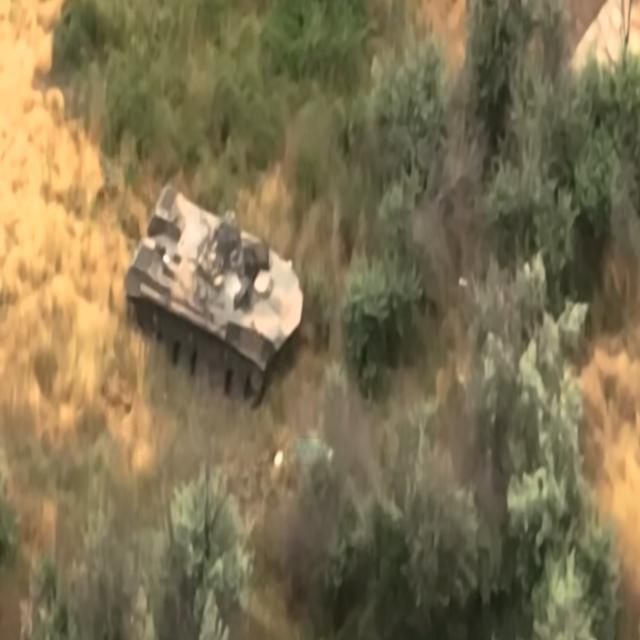AIFV: (124, 180, 306, 412)
